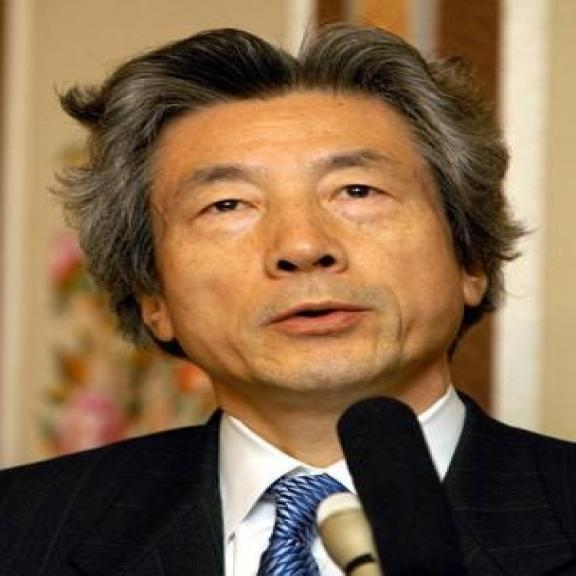face: (103, 82, 498, 392)
